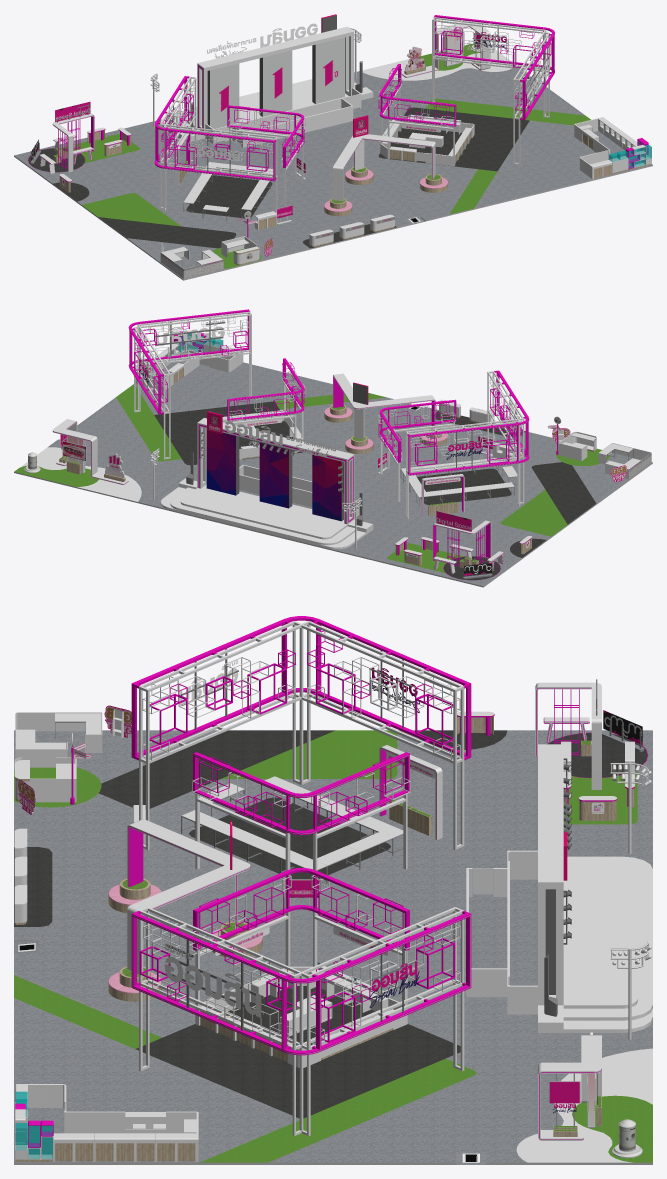
Rendered from Structure2024.fbx.
3 renders of one model, top to bottom at view 1: azimuth 30°, elevation 25°; view 2: azimuth 150°, elevation 25°; view 3: azimuth 270°, elevation 25°, orthographic. The views are drawn at different scales.
Visible parts, largest first — view 1: pCylinder19, pCube28 (×2), pCube29 (×2), polySurface31, Saving, set04_A, set05_A, set06_A, polySurface62, polySurface64, polySurface60, StreetFood (+16 smaller); view 2: pCylinder19, pCube28 (×2), pCube48, pCube29 (×2), polySurface31, set04_A, set05_A, Saving, polySurface63, set06_A, polySurface65, polySurface61 (+18 smaller); view 3: pCylinder19, pCube28 (×2), pCube29 (×2), pCube48, Saving, set05_A, set06_A, set04_A, polySurface31, StreetFood, Workshop, pCube1 (+17 smaller).
Part boxes in pixels (left/top/right/bottom): pCylinder19: left=14, top=44, right=652, bottom=280; pCube28 (×2): left=159, top=17, right=549, bottom=222; pCube29 (×2): left=154, top=15, right=554, bottom=181; polySurface31: left=197, top=26, right=354, bottom=130; Saving: left=378, top=64, right=474, bottom=166; set04_A: left=434, top=20, right=551, bottom=114; set05_A: left=161, top=82, right=273, bottom=177; set06_A: left=227, top=105, right=305, bottom=206; polySurface62: left=315, top=37, right=344, bottom=103; polySurface64: left=263, top=50, right=292, bottom=116; polySurface60: left=210, top=63, right=239, bottom=128; StreetFood: left=160, top=236, right=256, bottom=278; pCylinder19: left=14, top=351, right=652, bottom=587; pCube28 (×2): left=134, top=311, right=524, bottom=518; pCube48: left=180, top=488, right=347, bottom=539; pCube29 (×2): left=128, top=309, right=529, bottom=475; polySurface31: left=197, top=418, right=354, bottom=524; set04_A: left=134, top=315, right=248, bottom=411; set05_A: left=410, top=376, right=522, bottom=471; Saving: left=227, top=358, right=305, bottom=459; polySurface63: left=206, top=429, right=239, bottom=495; set06_A: left=378, top=399, right=456, bottom=501; polySurface65: left=259, top=442, right=292, bottom=508; polySurface61: left=312, top=454, right=343, bottom=521; pCylinder19: left=14, top=730, right=652, bottom=1164; pCube28 (×2): left=139, top=621, right=464, bottom=1136; pCube29 (×2): left=131, top=616, right=471, bottom=1055; pCube48: left=563, top=867, right=637, bottom=1008; Saving: left=192, top=868, right=410, bottom=1067; set05_A: left=142, top=631, right=460, bottom=760; set06_A: left=192, top=752, right=410, bottom=906; set04_A: left=139, top=915, right=460, bottom=1045; polySurface31: left=538, top=744, right=563, bottom=1005; StreetFood: left=15, top=712, right=102, bottom=802; Workshop: left=181, top=776, right=403, bottom=883; pCube1: left=127, top=819, right=250, bottom=973.
Size of the model in its own units: 4000 by 715 by 2500.
